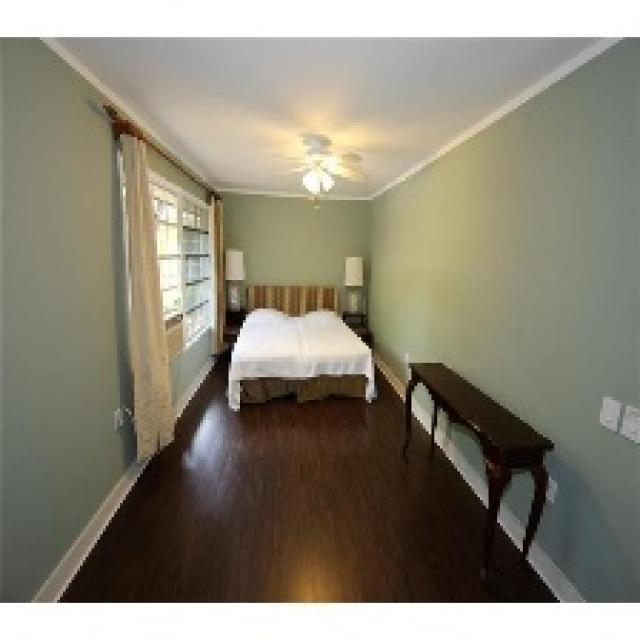Bed: (226, 283, 374, 411)
